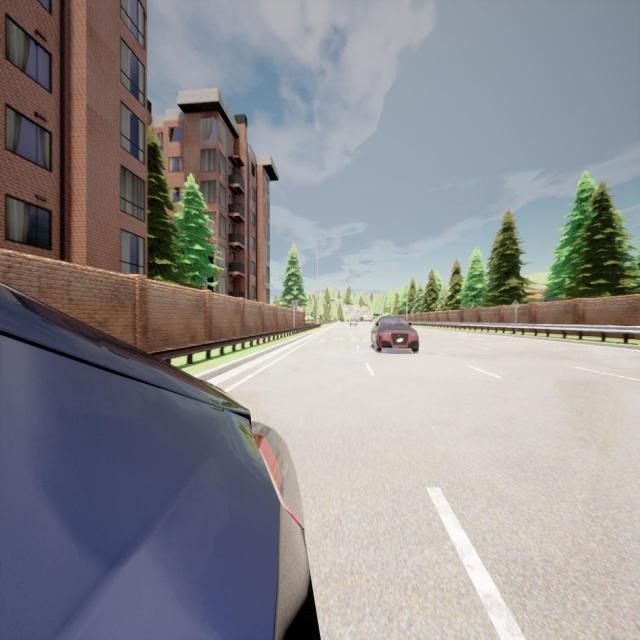Traffic_Signs: (510, 300, 521, 312), (291, 299, 297, 311)
Vehicle: (0, 283, 318, 638), (370, 314, 420, 354), (349, 318, 357, 327)
